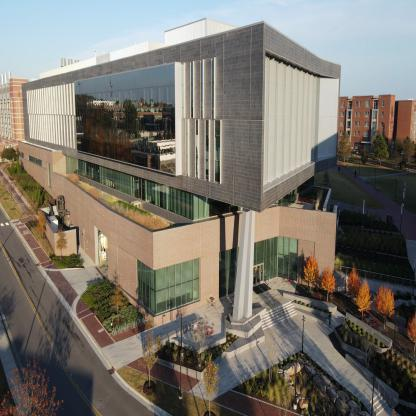Fitts- Woolard: (0, 3, 350, 324)
